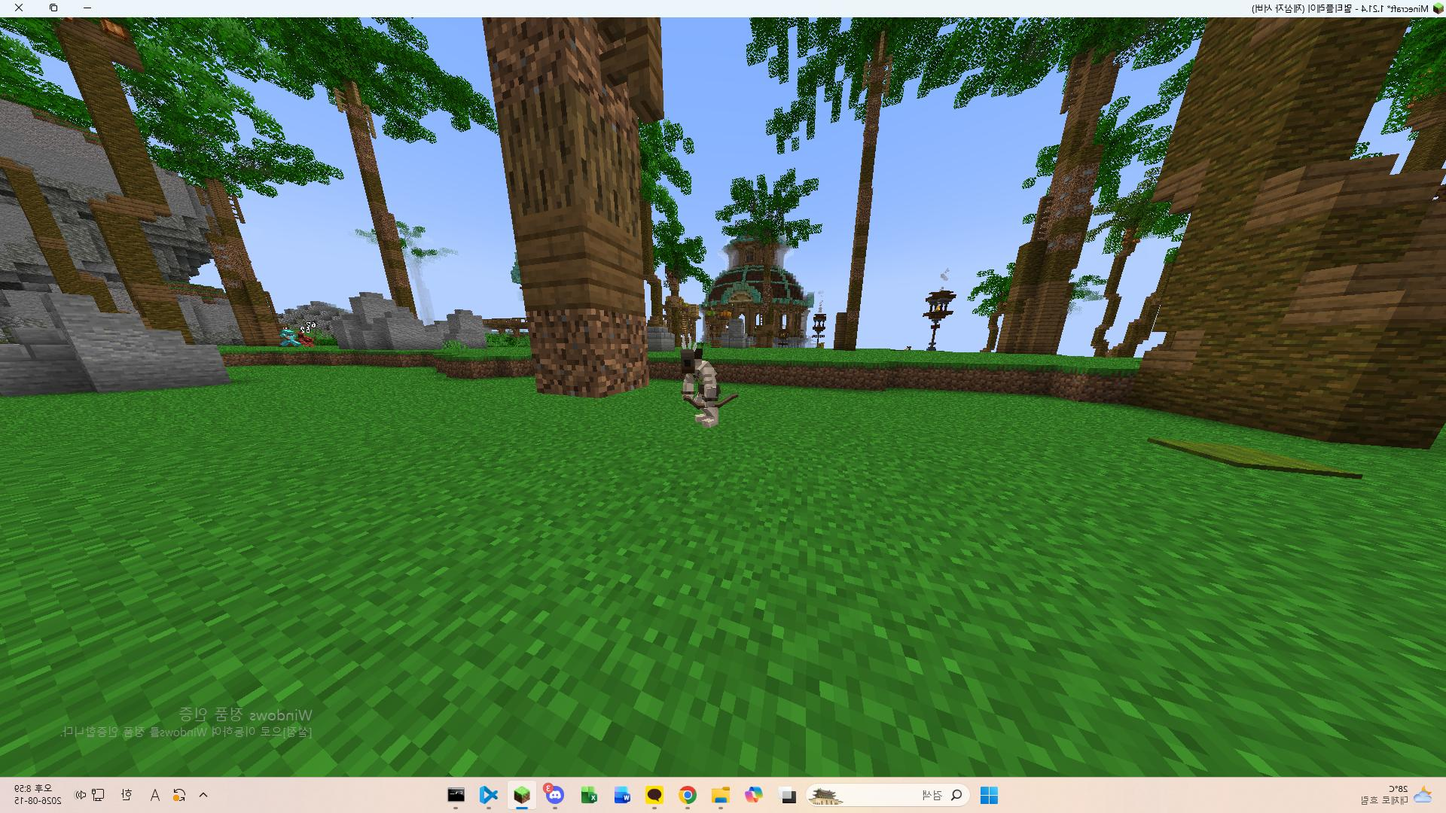bow_indian: (670, 331, 757, 437)
